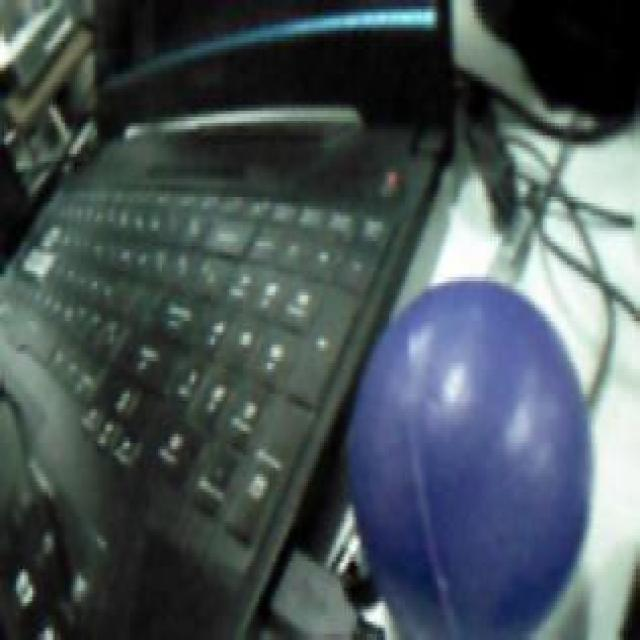BallPurple: (346, 279, 591, 640)
